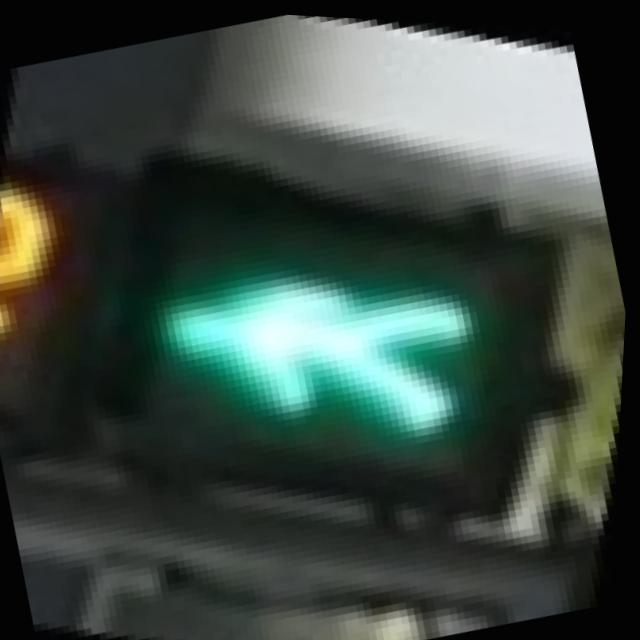green_light: (1, 82, 597, 609)
